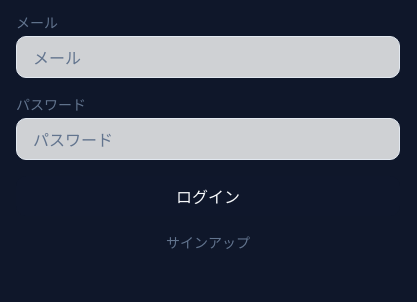
Test: LoginSignupForm › バリデーションでメール未入力時にエラーを表示する
The width and height of the screenshot is (417, 302).
Type "password123" into the password field with placeholder "パスワード" at (208, 139), box [16, 118, 400, 160]
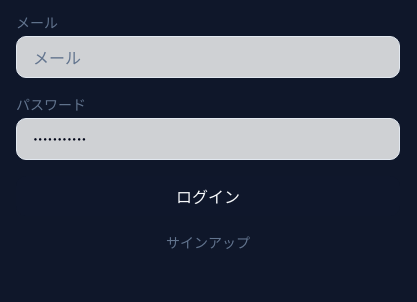
Click the button "ログイン" at (208, 196), box [16, 176, 400, 216]
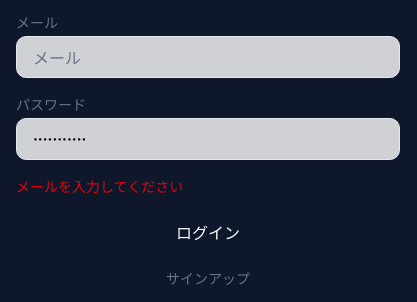
Result: the message reads "メールを入力してください" at [16, 176, 183, 196]
